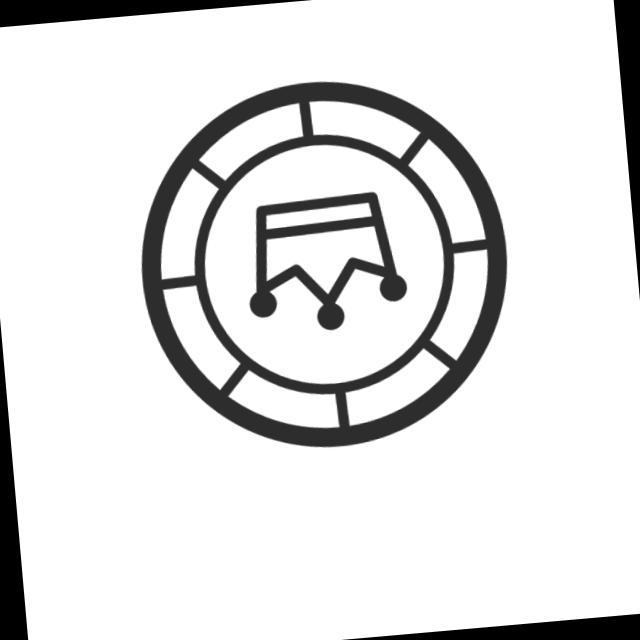coin: (118, 60, 529, 470)
